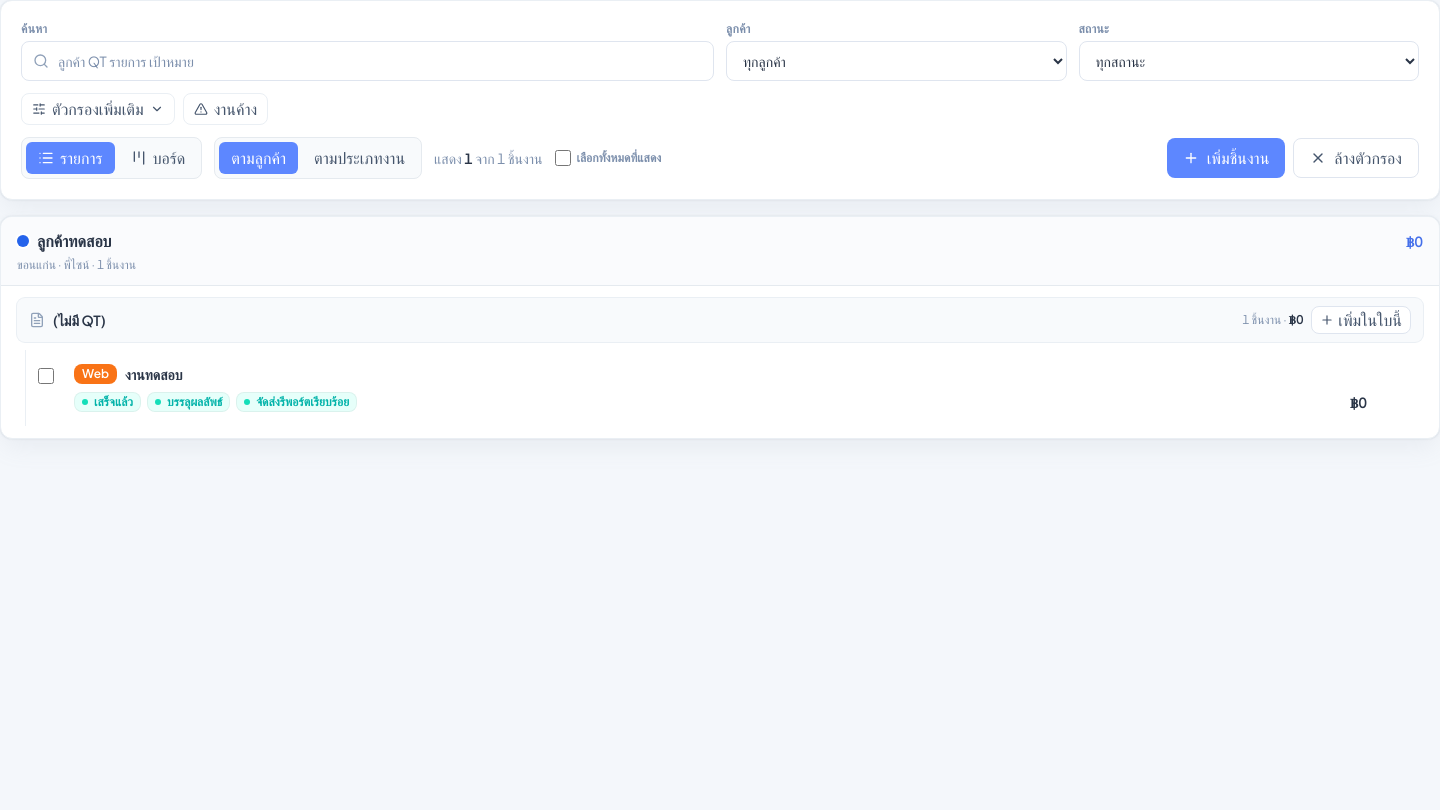
Test: ItemsView 'ตัวกรองเพิ่มเติม' disclosure › collapses the hidden filters by default when none of them are active
Check: the field labelled "ช่องทาง" is not shown
Check: the field labelled "จังหวัด" is not shown
Click the button "ตัวกรองเพิ่มเติม" at (98, 109), box [21, 93, 175, 125]
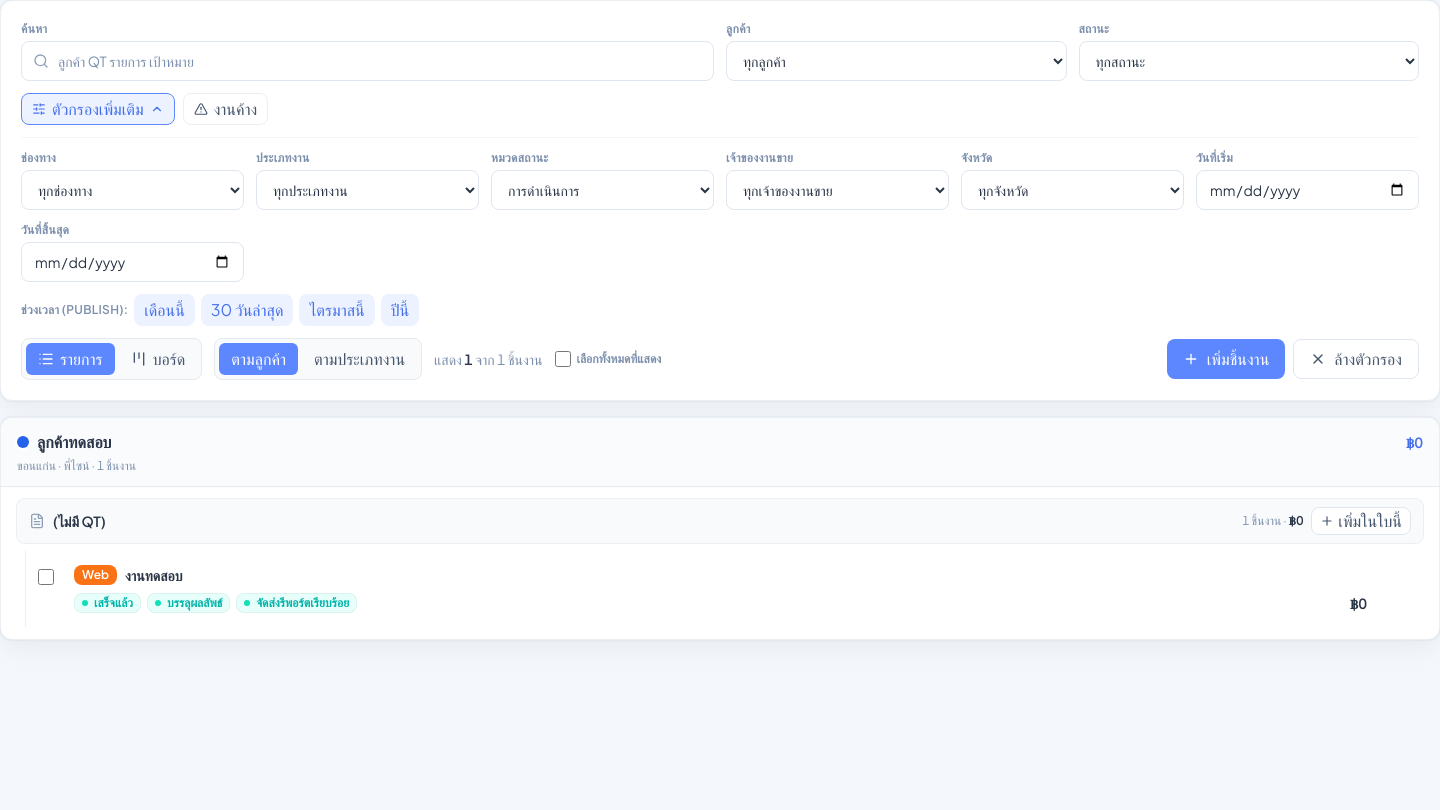
Check: the button "ตัวกรองเพิ่มเติม" is expanded, box [21, 93, 175, 125]
Check: the dropdown labelled "ช่องทาง" is shown, box [21, 170, 244, 210]
Check: the dropdown labelled "จังหวัด" is shown, box [961, 170, 1184, 210]
